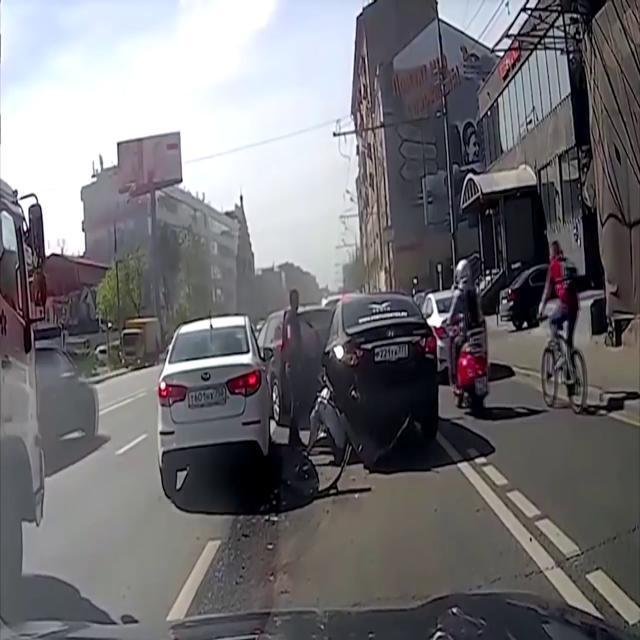accident: (290, 288, 438, 500)
non-accident: (498, 241, 598, 415), (424, 260, 491, 420), (95, 317, 162, 369)
